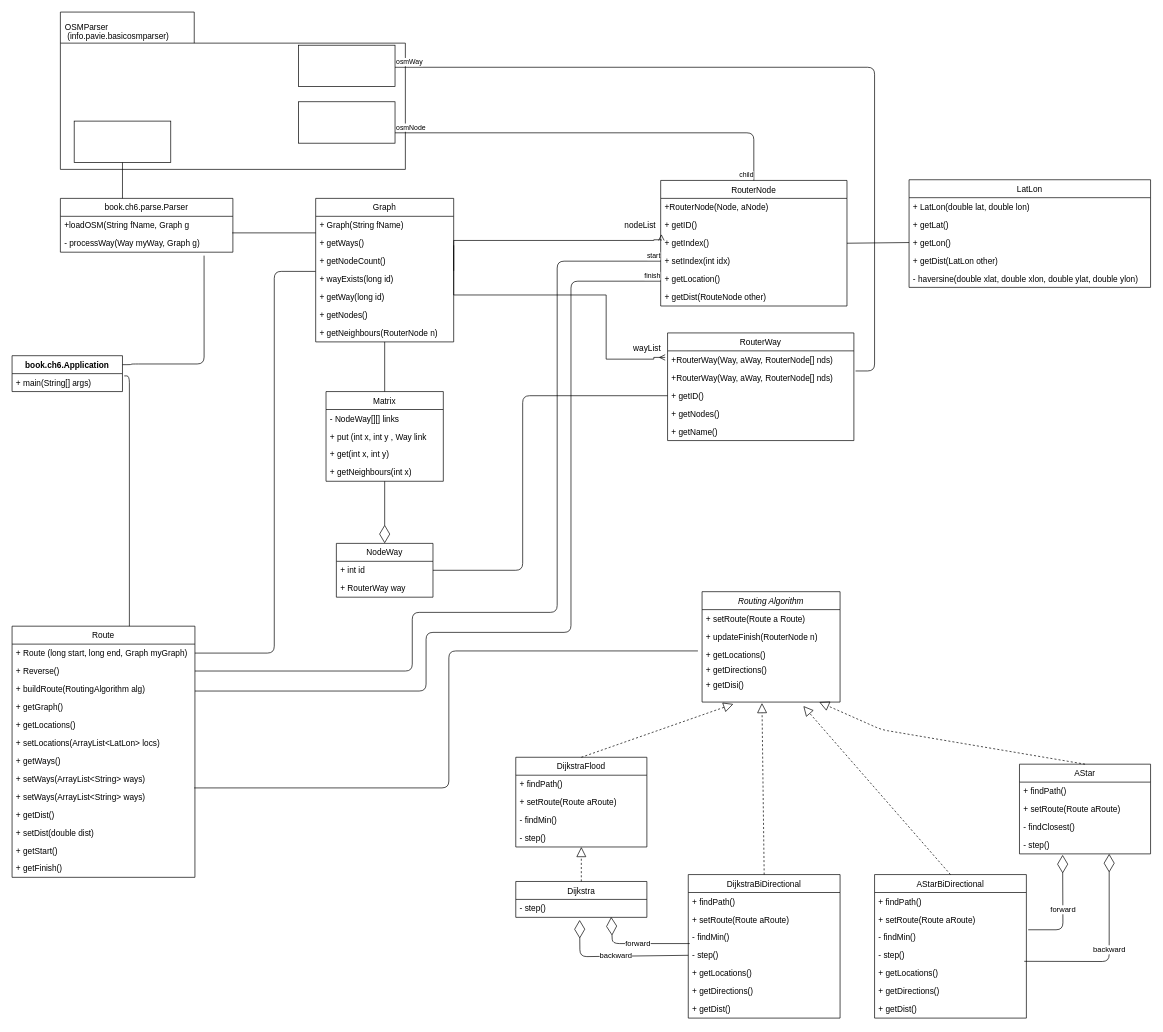
This 1163x1032 diagram has some shape labels left out. The shapes that lost their labels are listed below. From the top down, each one's centre as x and y in pixels, then its label:
At (346,66): "Way".
At (122,141): "OSMParser".
At (346,122): "Node".
